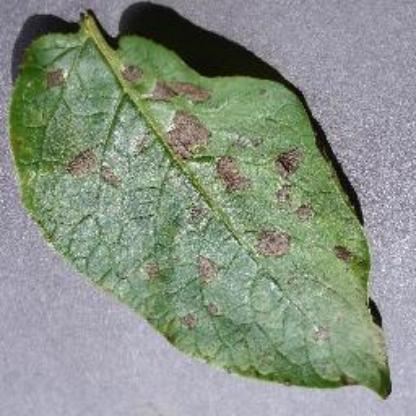Early-Blight: (8, 6, 416, 400)
